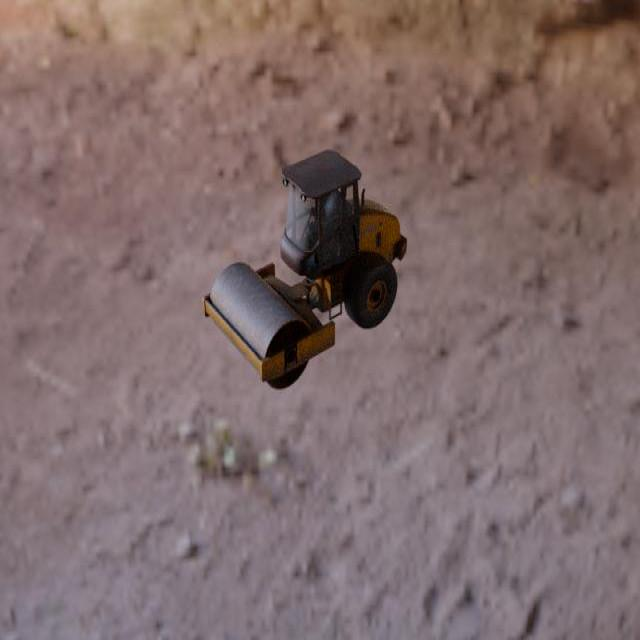Roller: (202, 148, 407, 389)
